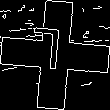L_S: (37, 28, 73, 82)
